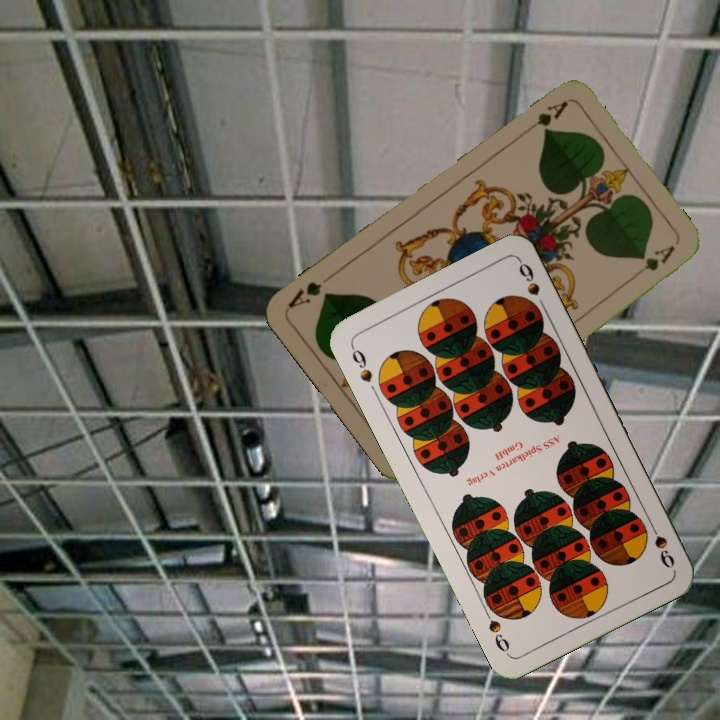GA: (518, 97, 570, 138)
S9: (644, 516, 678, 571), (346, 341, 375, 385)
